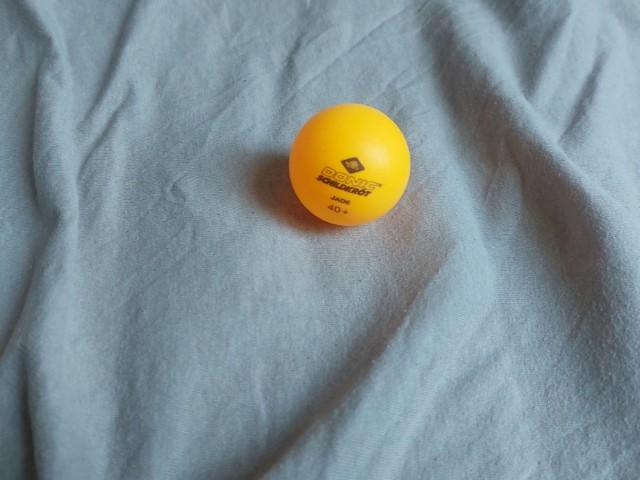oball: (281, 99, 417, 232)
